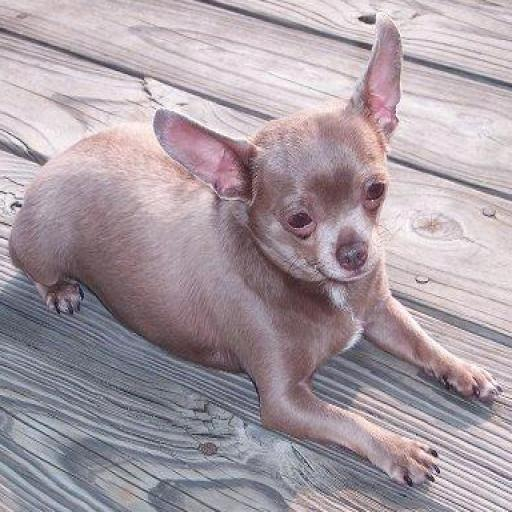dog_face: (163, 12, 404, 290)
